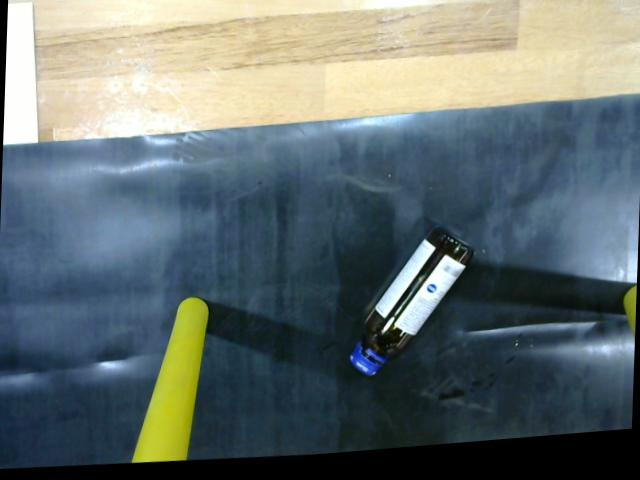glass: (340, 222, 486, 395)
